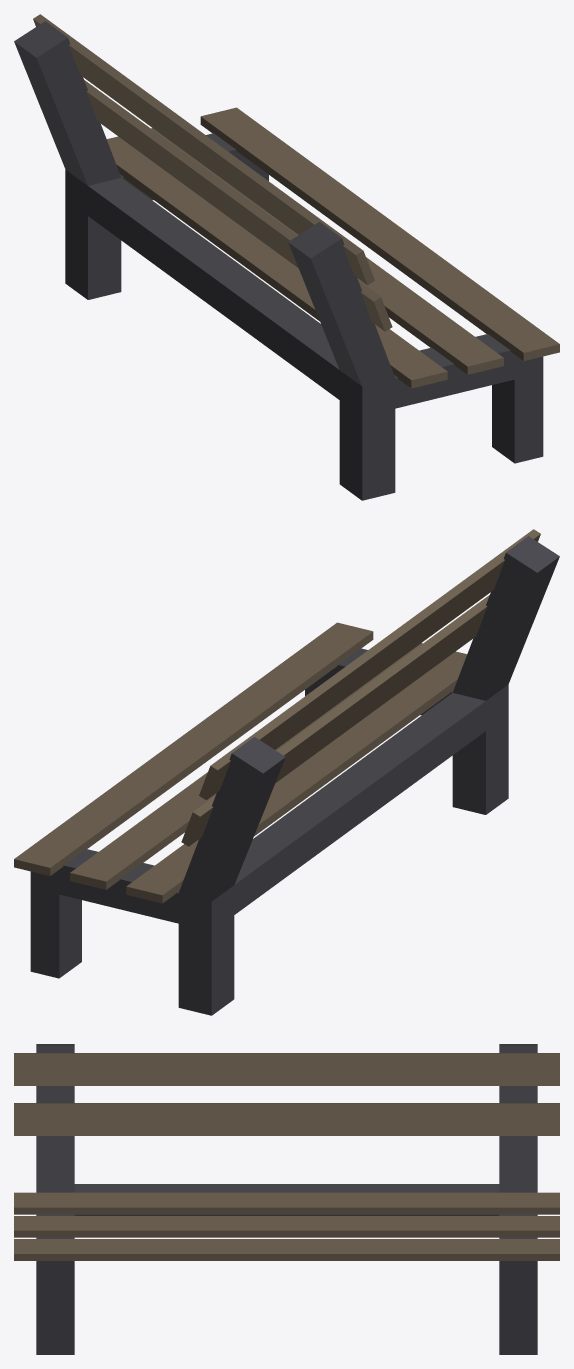
File: Bench.fbx
The picture shows the model from 3 angles, top to bottom: view 1: azimuth 30°, elevation 25°; view 2: azimuth 150°, elevation 25°; view 3: azimuth 270°, elevation 25°; orthographic projection. The views are drawn at different scales.
Visible parts, largest first — view 1: Bench; view 2: Bench; view 3: Bench.
Part boxes in pixels (<box>): Bench: <box>14,14,559,500</box>; Bench: <box>14,529,559,1015</box>; Bench: <box>14,1044,559,1354</box>.
Size of the model in its own units: 52.87 by 57.25 by 125.
